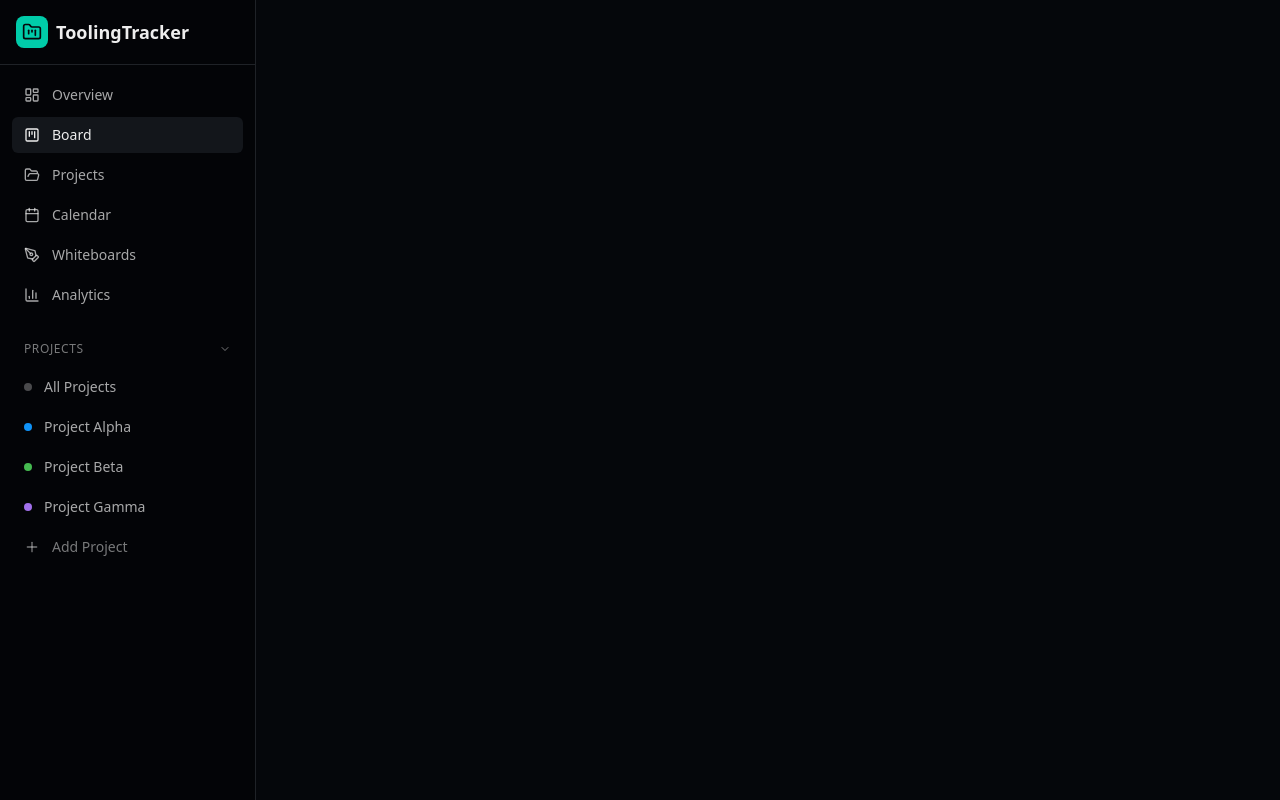
Sidebar Component › should open add project dialog when clicking add button
Step 1. Click the button "Add Project" → [128, 547], box 12,529 -> 243,565
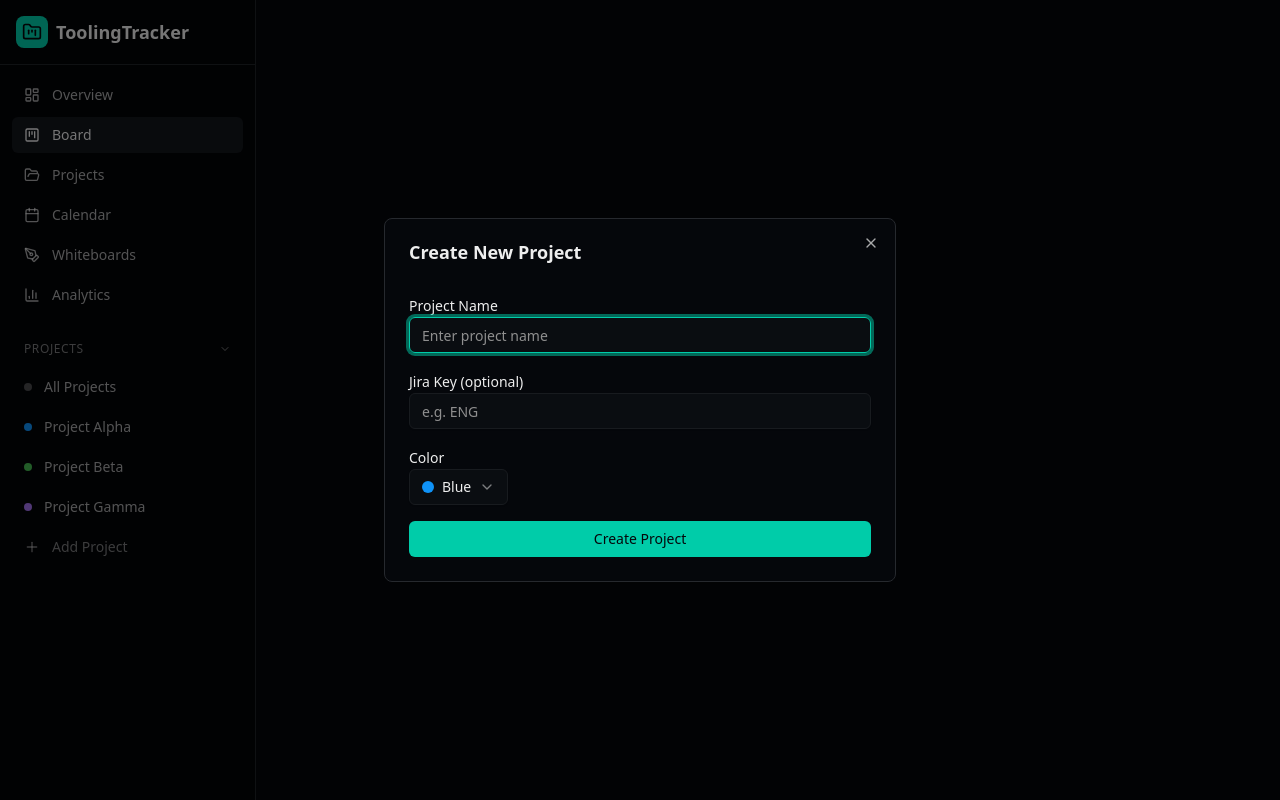
Expected: the heading "Create New Project" is shown, 409,240 -> 581,264
